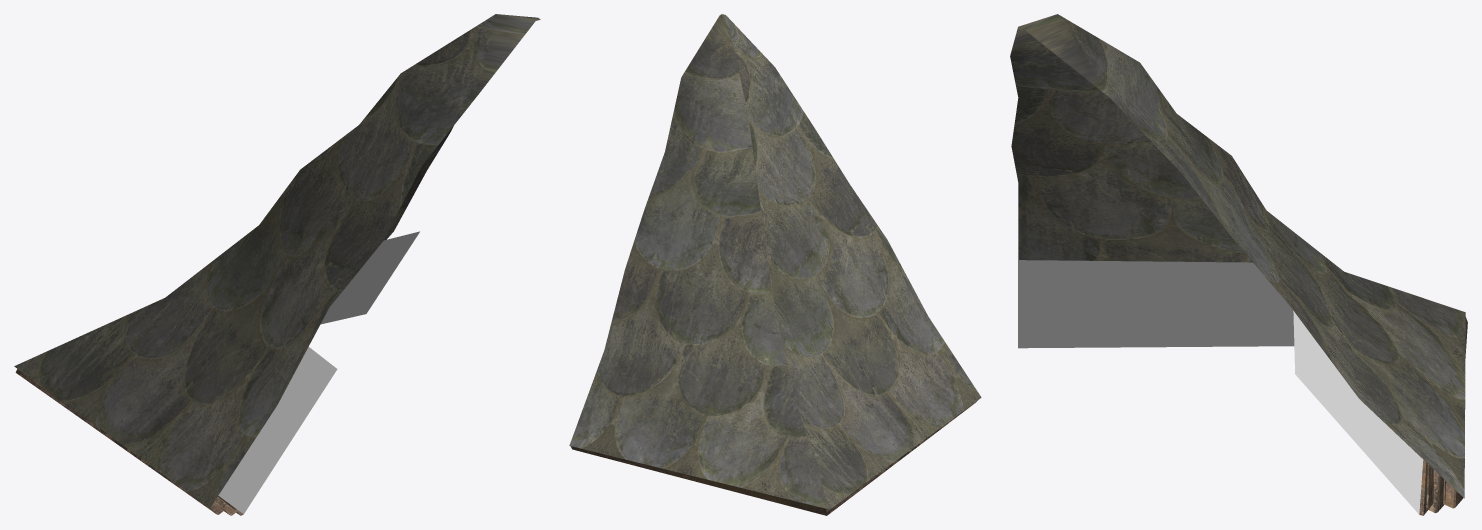
Rendered from Roof_Standard_Tail.fbx.
3 views of the same model, side by side, from view 1: azimuth 30°, elevation 25°; view 2: azimuth 150°, elevation 25°; view 3: azimuth 270°, elevation 25° (orthographic). The views are drawn at different scales.
Parts seen in each view (by area): view 1: Roof_Standard_Tail_LOD0; view 2: Roof_Standard_Tail_LOD0; view 3: Roof_Standard_Tail_LOD0.
Boxes of the visible parts, x1,y1,x2,y2 form: Roof_Standard_Tail_LOD0: (14, 14, 540, 515); Roof_Standard_Tail_LOD0: (569, 14, 981, 515); Roof_Standard_Tail_LOD0: (1010, 14, 1467, 515).
Size of what is drawn, in the model's own units: 127 by 149 by 128.
